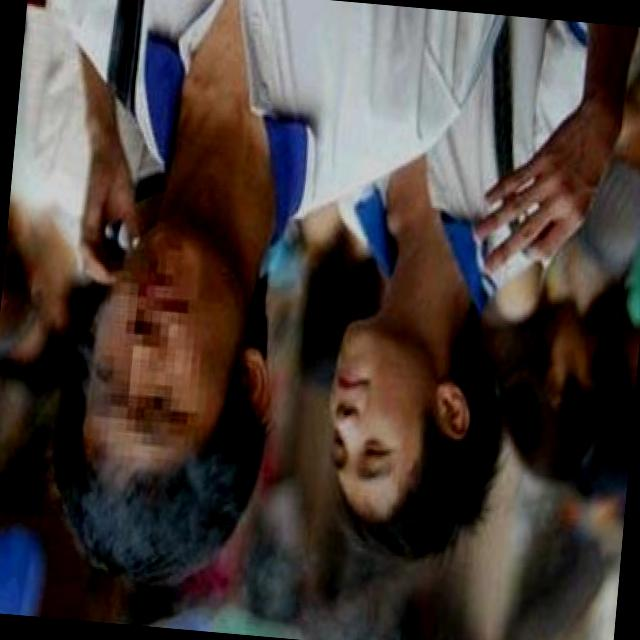cigarette: (510, 222, 568, 284)
